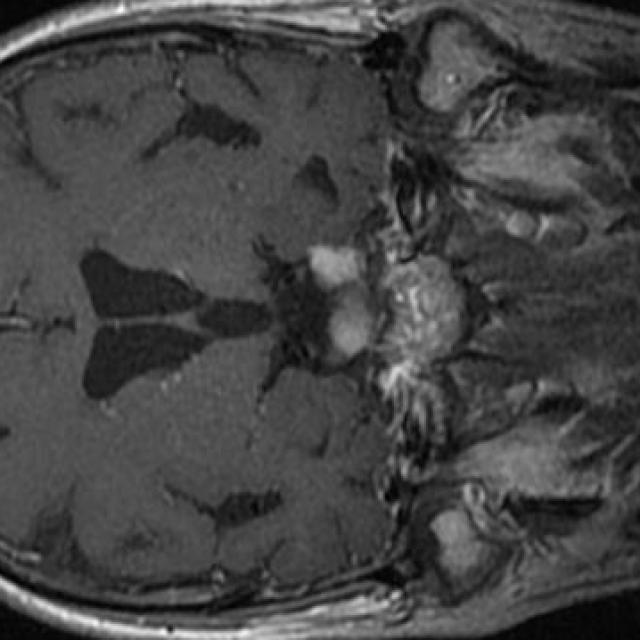pituitary: (308, 250, 371, 353)
